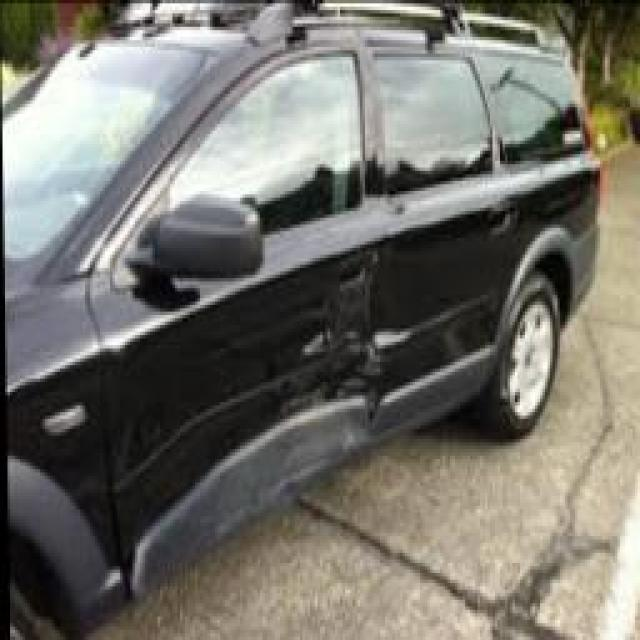Door: (284, 267, 380, 439)
